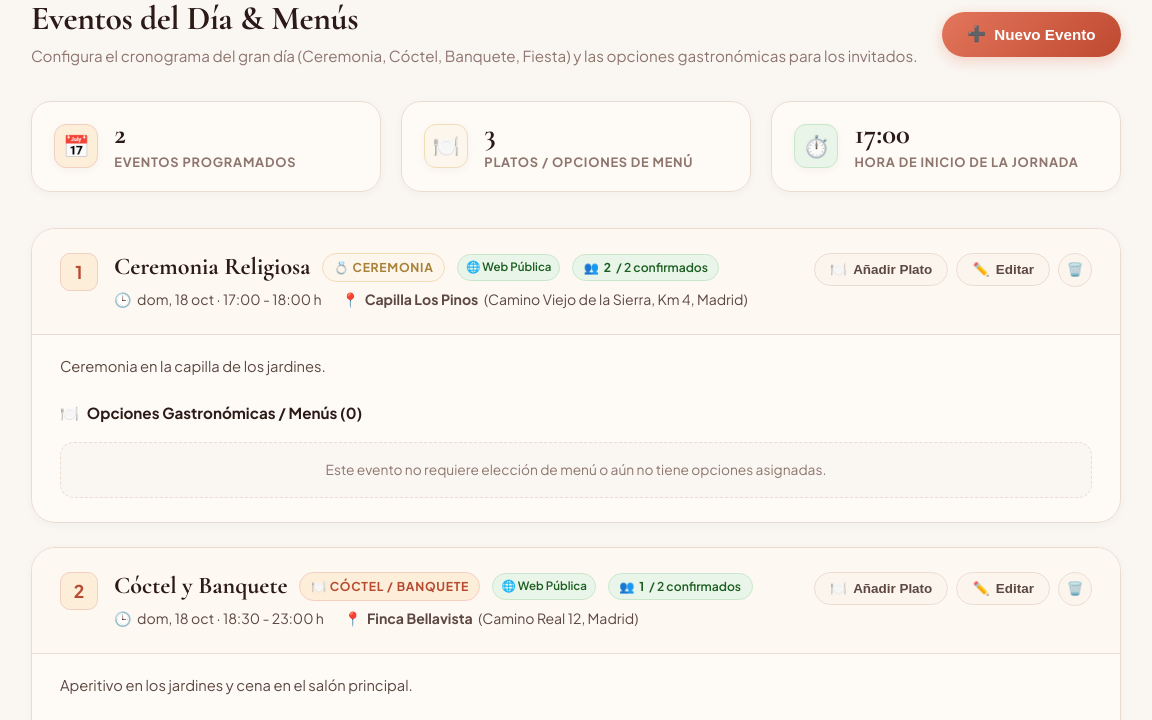
it: Feature: Eventos y Menús en Panel Admin (AdminEventsPage) › Flujo CRUD de Gestión de Eventos › abre el modal para añadir una opción de menú a un evento
Expected: the heading "Cóctel y Banquete" is shown, [114,572,288,601]
# Clic en "Añadir Plato"
Click the button "🍽️ Añadir Plato" in the row of "💍 Ceremonia". click: click(881, 270)
box: [814,253,948,286]
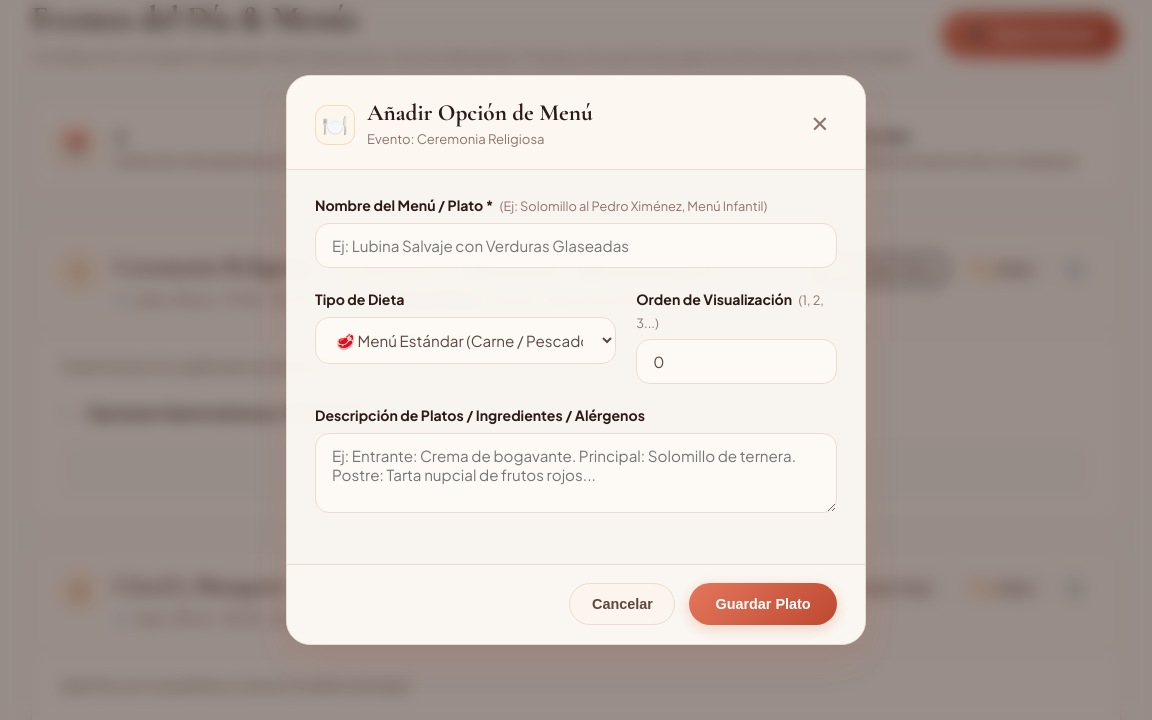
Expected: the heading "Añadir Opción de Menú" is shown, [367,100,593,128]
Expected: the text "Evento: Ceremonia Religiosa" is shown, [367,130,545,147]
